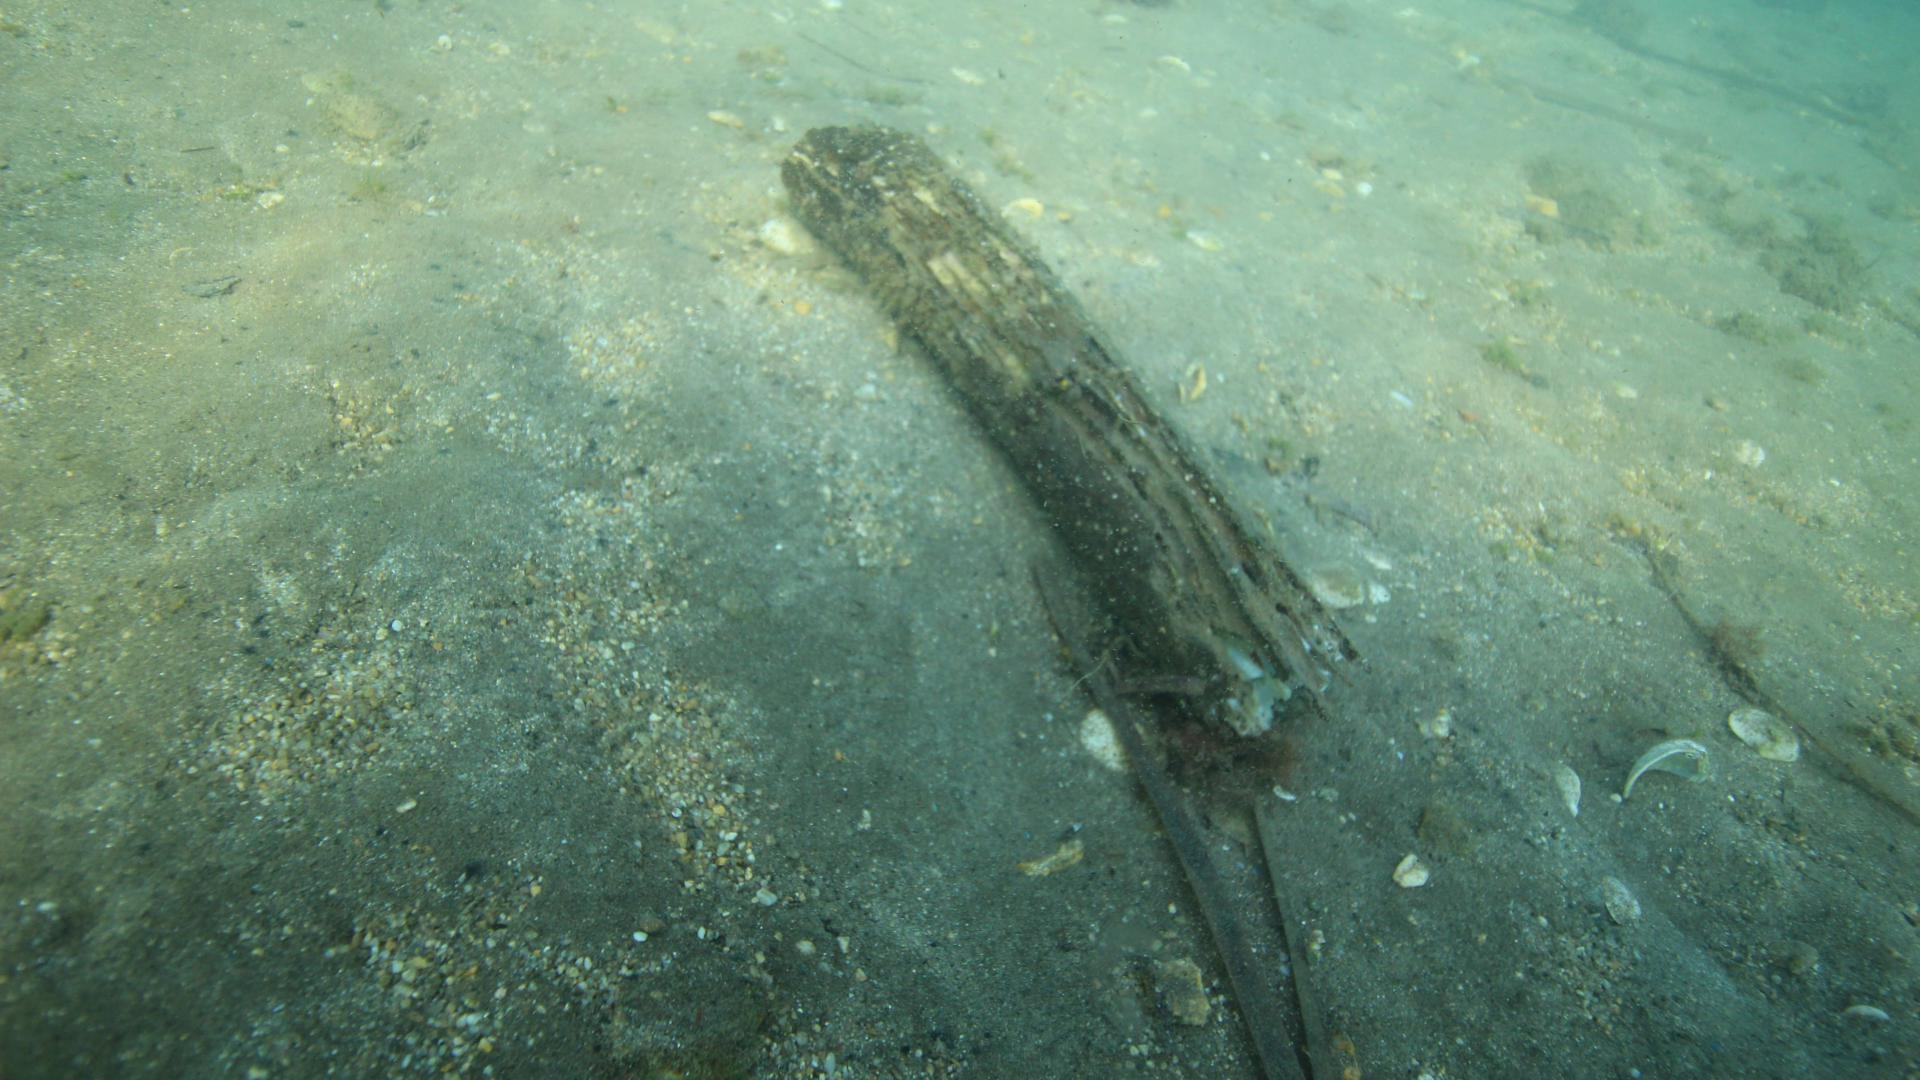wood: (781, 127, 1331, 757)
